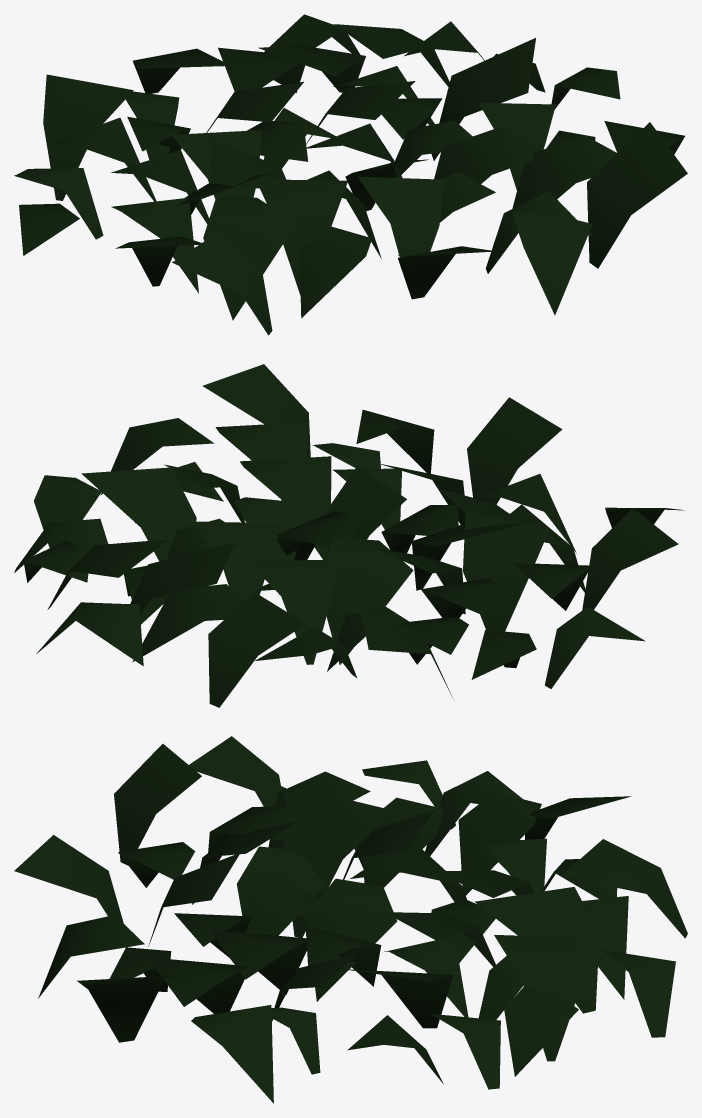
The model's file is Grass_A.FBX.
The picture shows the model from 3 angles, top to bottom: view 1: azimuth 30°, elevation 25°; view 2: azimuth 150°, elevation 25°; view 3: azimuth 270°, elevation 25°; orthographic projection. The views are drawn at different scales.
Parts seen in each view (by area): view 1: Grass_Plane_A001; view 2: Grass_Plane_A001; view 3: Grass_Plane_A001.
Boxes of the visible parts, x1,y1,x2,y2 form: Grass_Plane_A001: (14, 14, 687, 335); Grass_Plane_A001: (14, 364, 684, 707); Grass_Plane_A001: (14, 736, 687, 1103).
Size of the model in its own units: 110 by 19.06 by 102.
